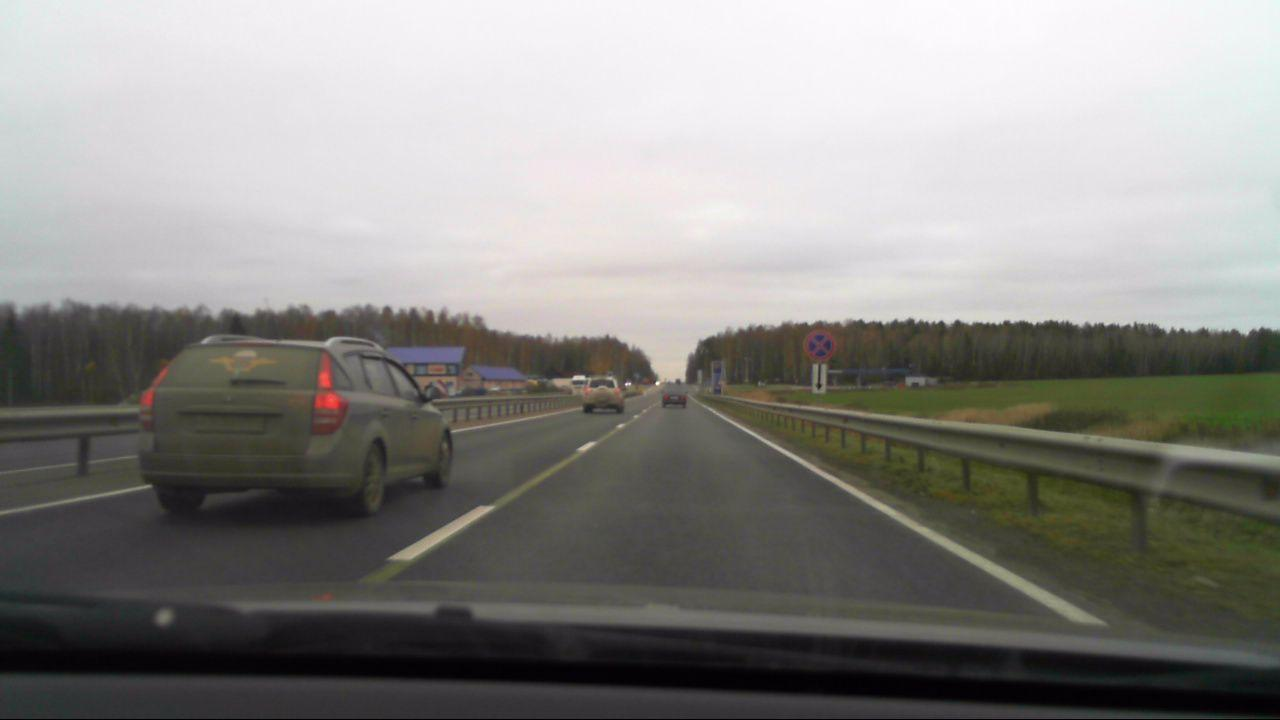3_27: (804, 328, 834, 359)
8_2_3: (810, 362, 828, 394)
